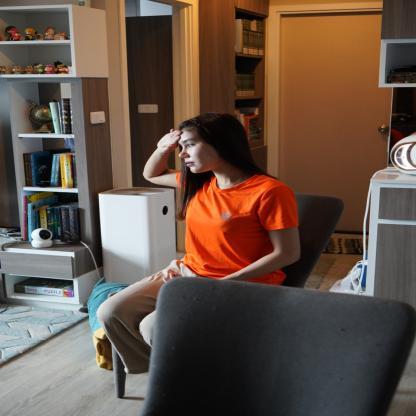Sick: (140, 126, 202, 160)
